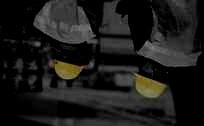helmet: (133, 58, 172, 99), (53, 42, 89, 79)
